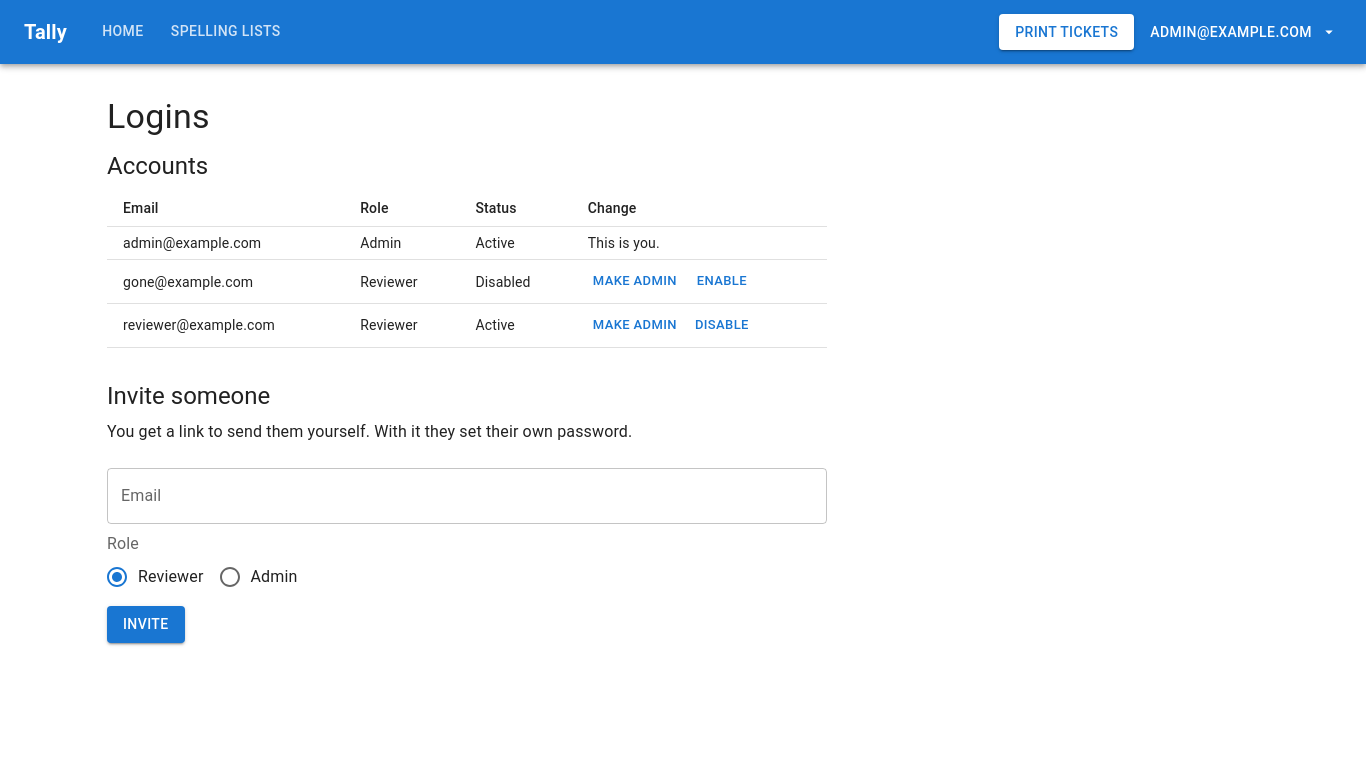
it: the users list › asks before disabling, with the focus on Cancel; Cancel sends nothing
Later steps or results of the test are not shown.
Step 1. Click the button "Disable" → (722, 325), box [690,310,754,341]
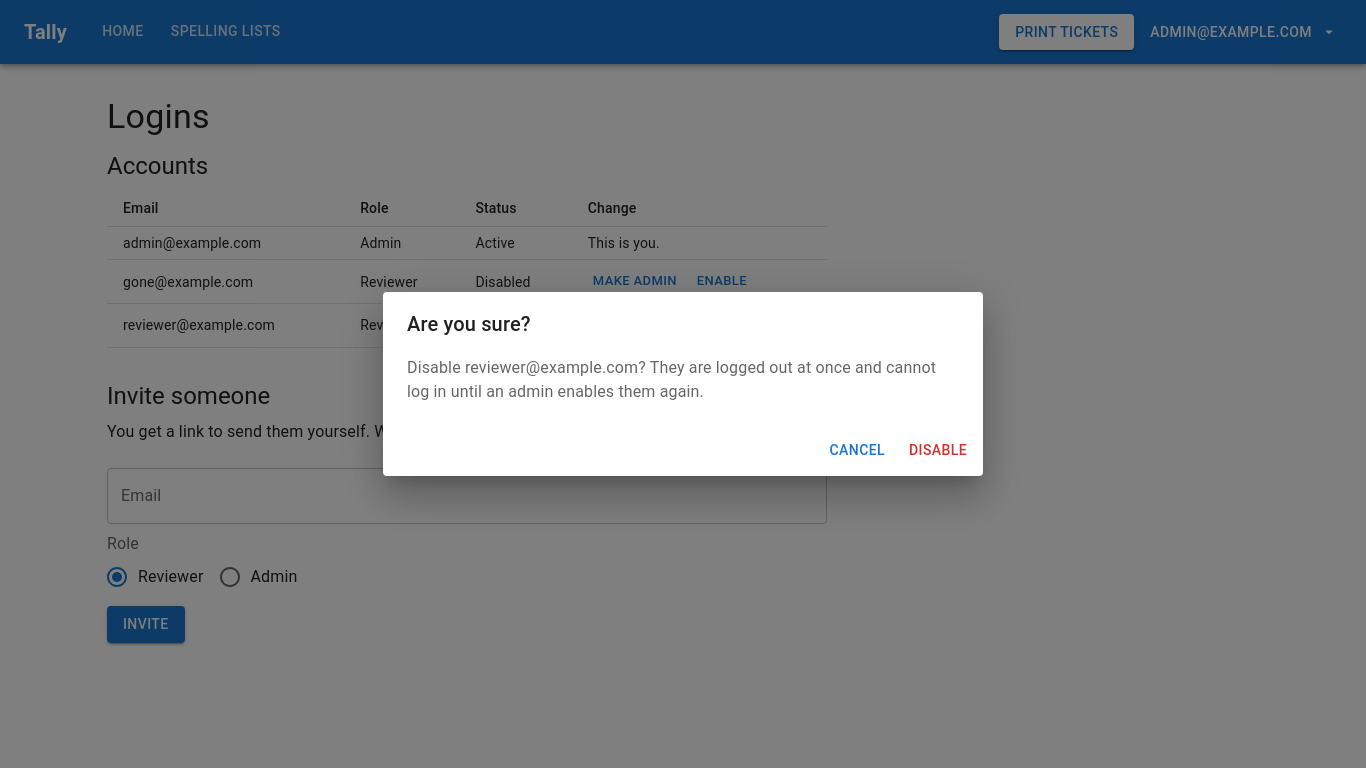
expect the text "Disable reviewer@example.com? They are logged out at once and cannot log in until an admin enables them again." is shown: met, box [407,358,936,401]
